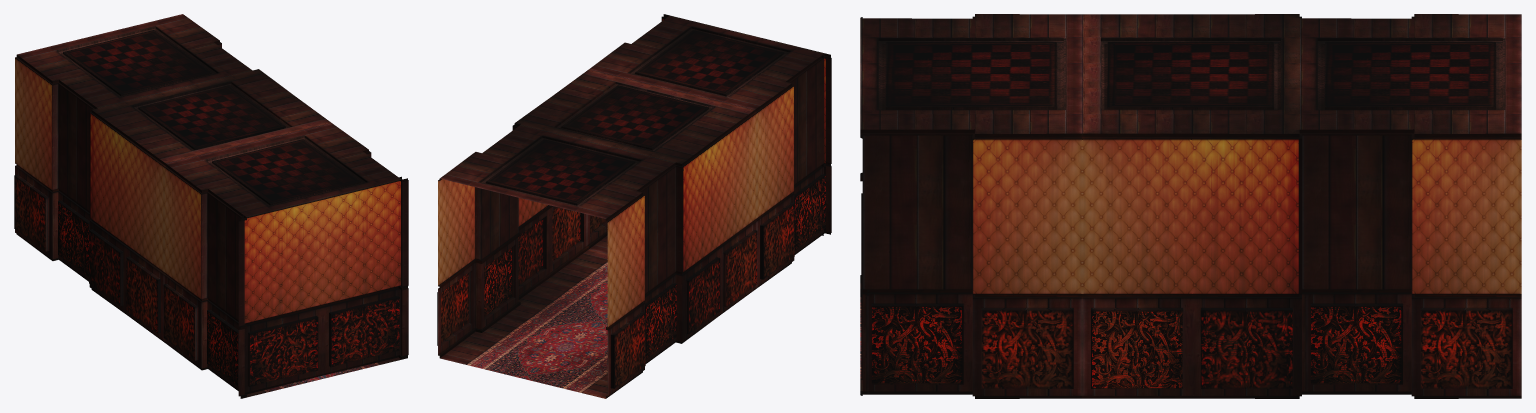
The model's file is HallStraightEnd.FBX.
3 renders of one model, left to right at view 1: azimuth 30°, elevation 25°; view 2: azimuth 150°, elevation 25°; view 3: azimuth 270°, elevation 25°, orthographic. The views are drawn at different scales.
Parts seen in each view (by area): view 1: HallEnd02; view 2: HallEnd02; view 3: HallEnd02.
Part boxes in pixels (x1,y1,x2,y2): HallEnd02: [14, 14, 408, 398]; HallEnd02: [437, 14, 831, 398]; HallEnd02: [860, 14, 1521, 398].
Size of the model in its own units: 69 by 67.09 by 152.
